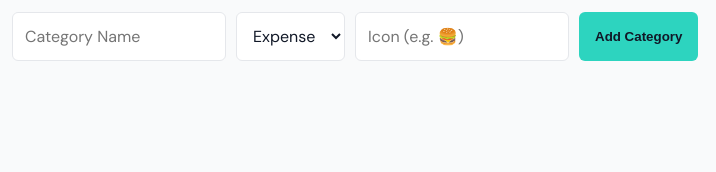
Test: displays backend validation errors
In the field with placeholder "Category Name": (119, 36) [12,12,226,61], type "Groceries"
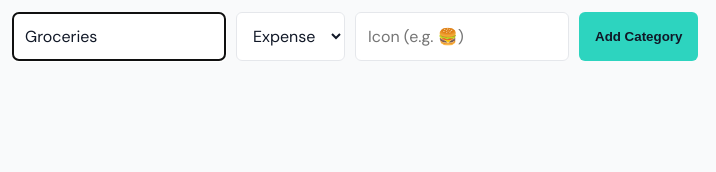
Click the button "Add Category": (639, 36) [579,12,698,61]
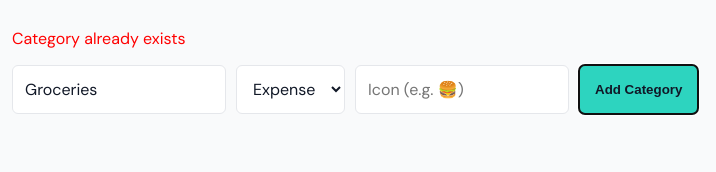
Expected: the text "Category already exists" is shown, [12,28,186,49]
